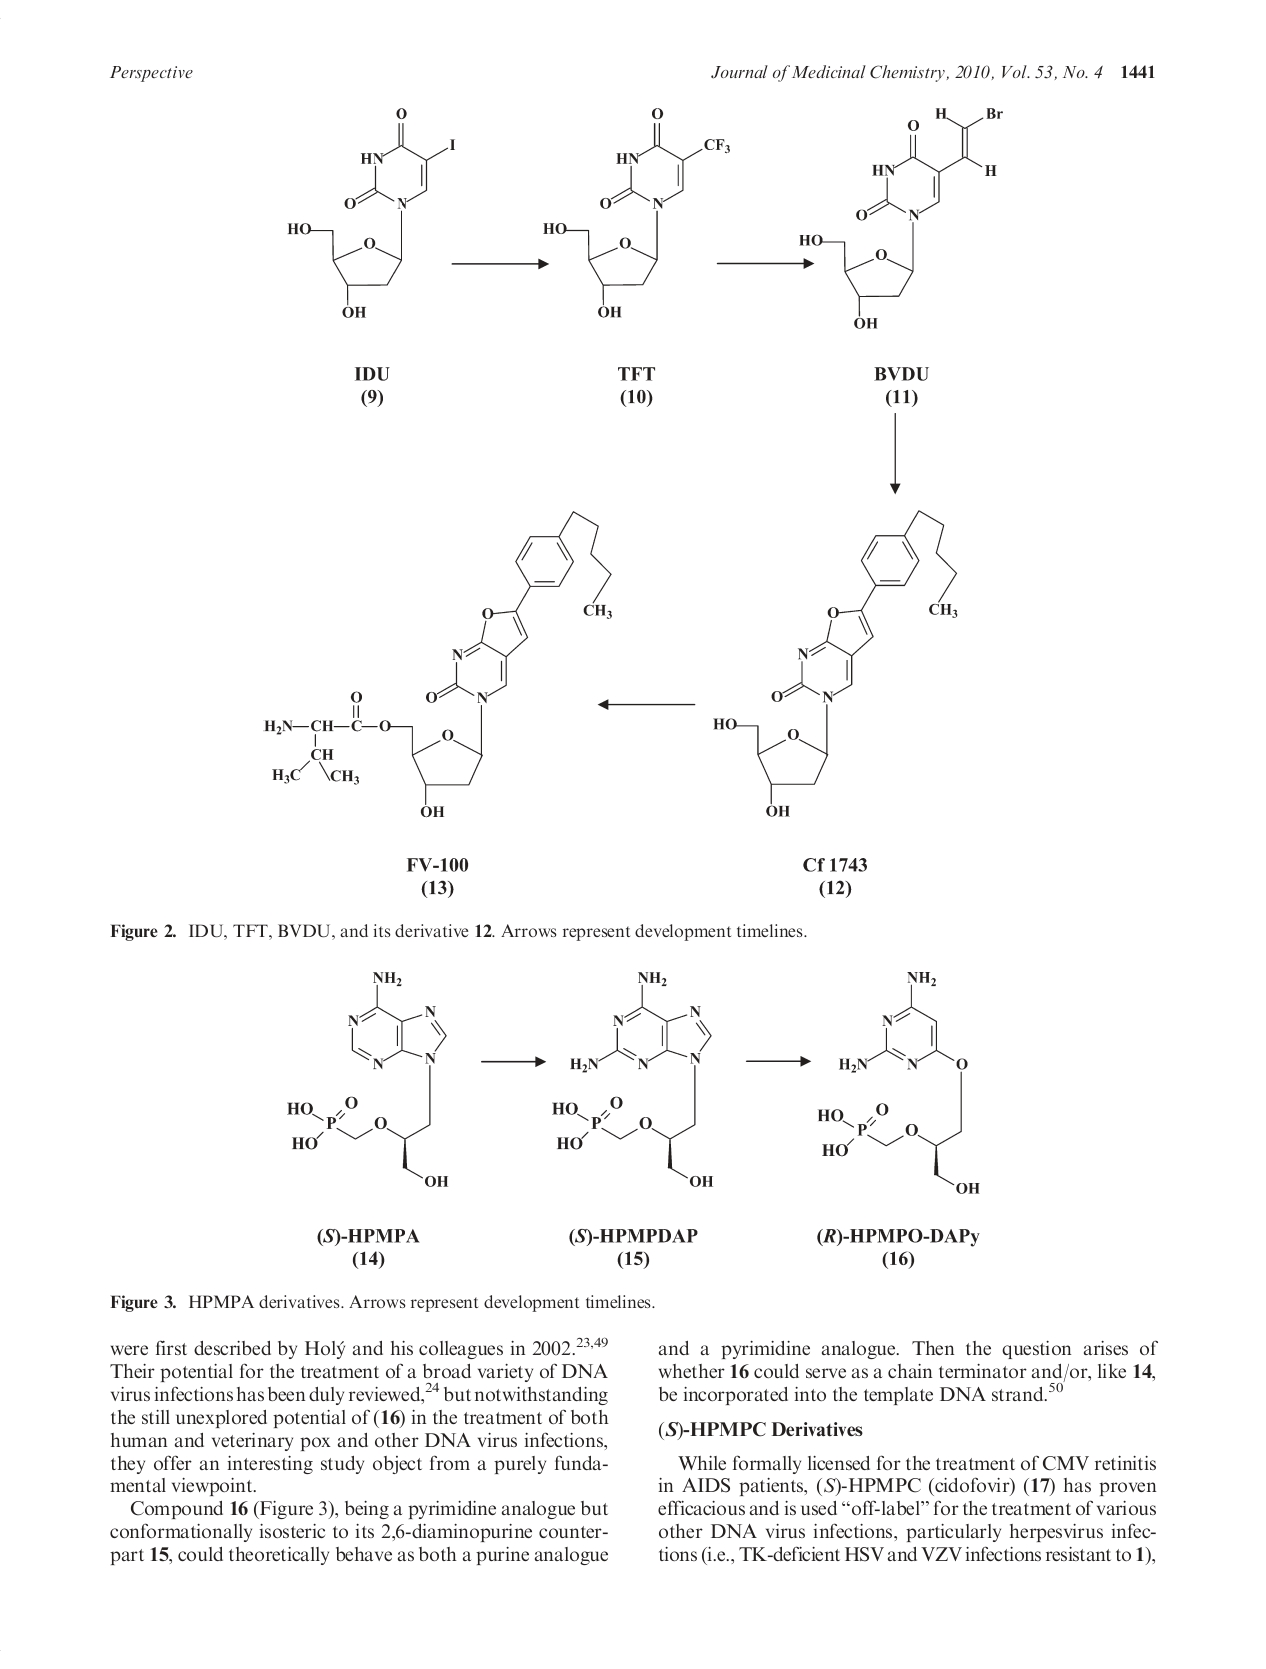exist_molecular: (263, 508, 613, 819), (711, 507, 959, 819), (797, 100, 1005, 332), (543, 108, 735, 322), (815, 969, 983, 1196), (287, 108, 459, 322), (287, 968, 449, 1190), (552, 969, 714, 1190)
